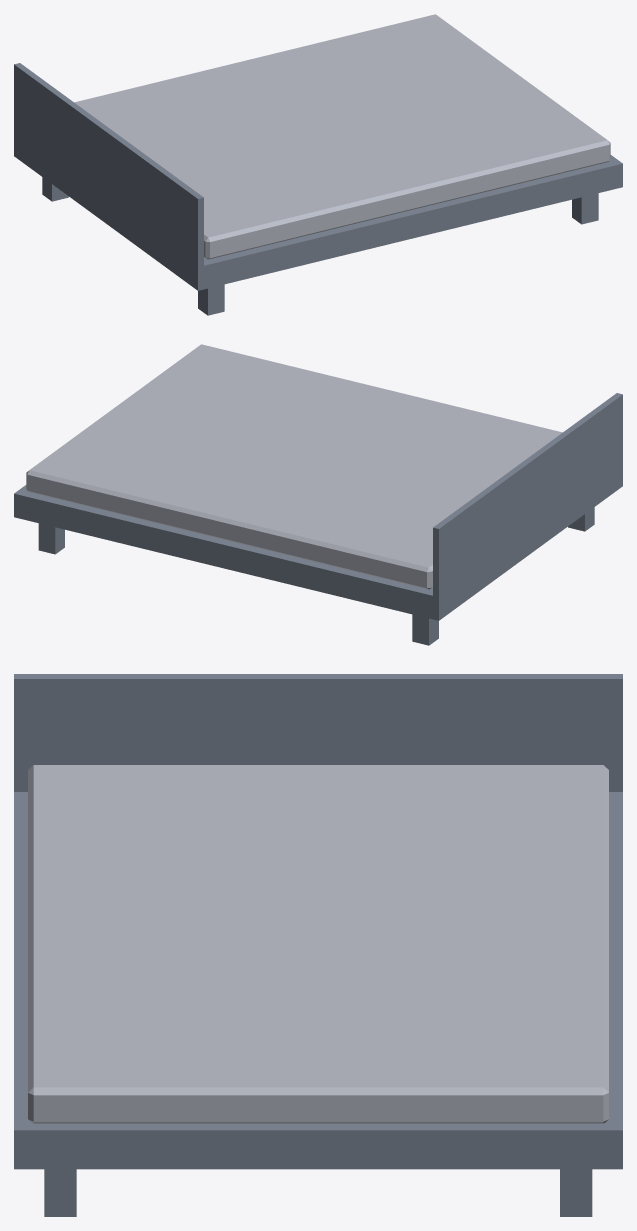
Rendered from Lit.fbx.
The picture shows the model from 3 angles, top to bottom: view 1: azimuth 30°, elevation 25°; view 2: azimuth 150°, elevation 25°; view 3: azimuth 270°, elevation 25°; orthographic projection. The views are drawn at different scales.
Parts seen in each view (by area): view 1: Lit; view 2: Lit; view 3: Lit.
Part boxes in pixels (box(x1,y1,x2,y2)): Lit: box(14, 14, 622, 315); Lit: box(14, 344, 622, 645); Lit: box(14, 674, 622, 1216).
Size of the model in its own units: 800 by 230 by 600.
